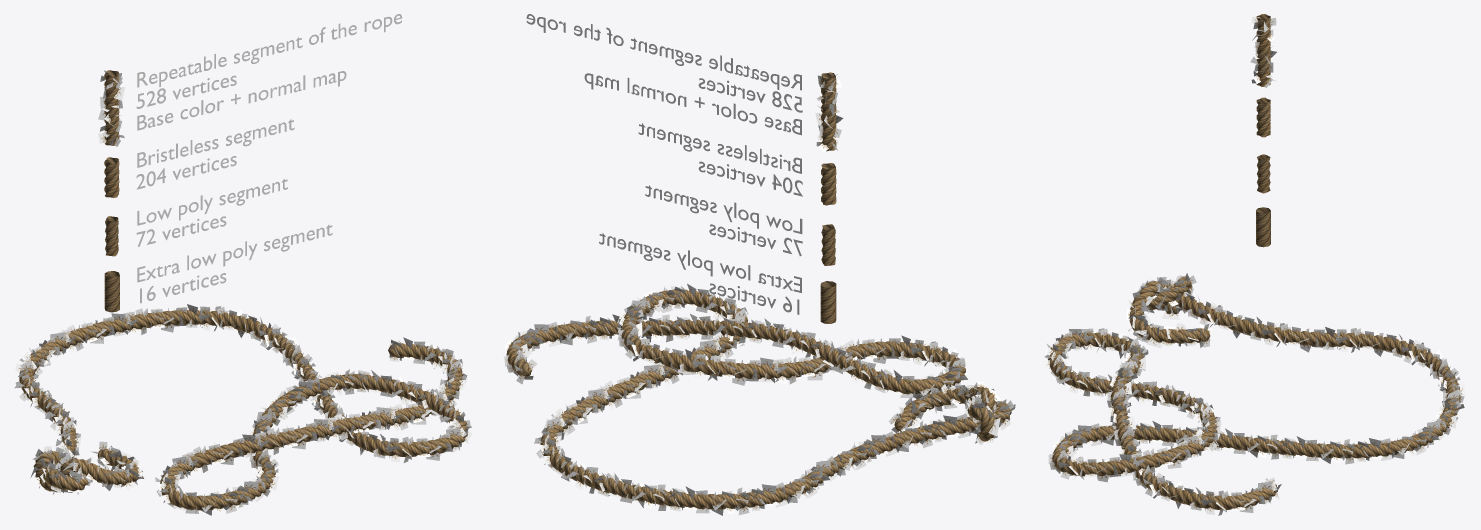
File: rope.fbx
3 views of the same model, side by side, from view 1: azimuth 30°, elevation 25°; view 2: azimuth 150°, elevation 25°; view 3: azimuth 270°, elevation 25° (orthographic). The views are drawn at different scales.
Parts seen in each view (by area): view 1: Circle.008, Text.001, Text.005, Text.007, corde polis, Text.006, Cylinder, corde neutre, corde neutre.003; view 2: Circle.008, Text.001, Text.007, Text.005, corde polis, Text.006, Cylinder, corde neutre; view 3: Circle.008, corde polis, Cylinder, corde neutre, corde neutre.003.
Part boxes in pixels (x1,y1,x2,y2): Circle.008: [14, 304, 472, 515]; Text.001: [136, 14, 402, 130]; Text.005: [136, 119, 294, 189]; Text.007: [137, 224, 332, 303]; corde polis: [98, 70, 125, 146]; Text.006: [136, 178, 287, 246]; Cylinder: [104, 271, 119, 312]; corde neutre: [104, 157, 119, 197]; corde neutre.003: [105, 216, 118, 256]; Circle.008: [503, 283, 1015, 515]; Text.001: [526, 14, 802, 135]; Text.007: [599, 233, 801, 314]; Text.005: [638, 123, 802, 196]; corde polis: [815, 72, 843, 152]; Text.006: [645, 185, 802, 256]; Cylinder: [820, 281, 836, 323]; corde neutre: [821, 163, 836, 205]; Circle.008: [1044, 273, 1466, 515]; corde polis: [1250, 14, 1276, 88]; Cylinder: [1256, 207, 1270, 247]; corde neutre: [1256, 97, 1270, 137]; corde neutre.003: [1257, 154, 1270, 193].
Bounding box in the file's own units: 98.17 × 76.16 × 83.37.
